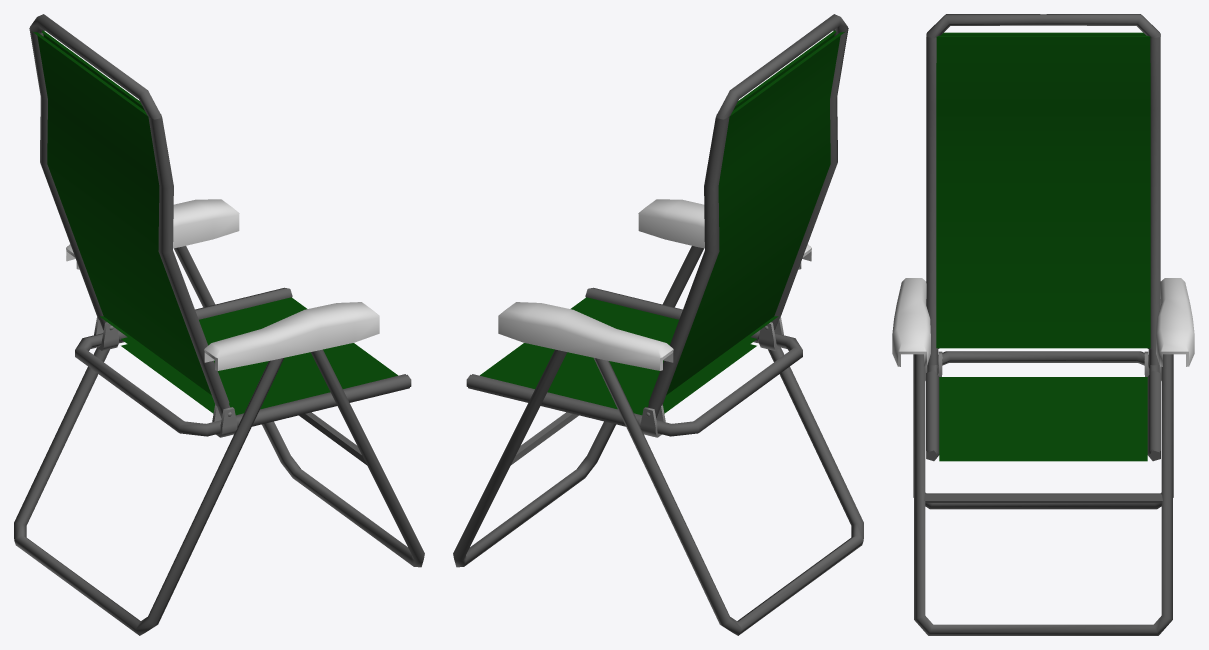
File: newchair2.fbx
3 renders of one model, left to right at view 1: azimuth 30°, elevation 25°; view 2: azimuth 150°, elevation 25°; view 3: azimuth 270°, elevation 25°, orthographic. The views are drawn at different scales.
Parts seen in each view (by area): view 1: SM_CampingChair_LOD0; view 2: SM_CampingChair_LOD0; view 3: SM_CampingChair_LOD0.
Part boxes in pixels (<box>): SM_CampingChair_LOD0: <box>14,14,424,635</box>; SM_CampingChair_LOD0: <box>453,14,863,635</box>; SM_CampingChair_LOD0: <box>892,14,1194,635</box>.
Bounding box in the file's own units: 27.38 × 48.53 × 26.61.
